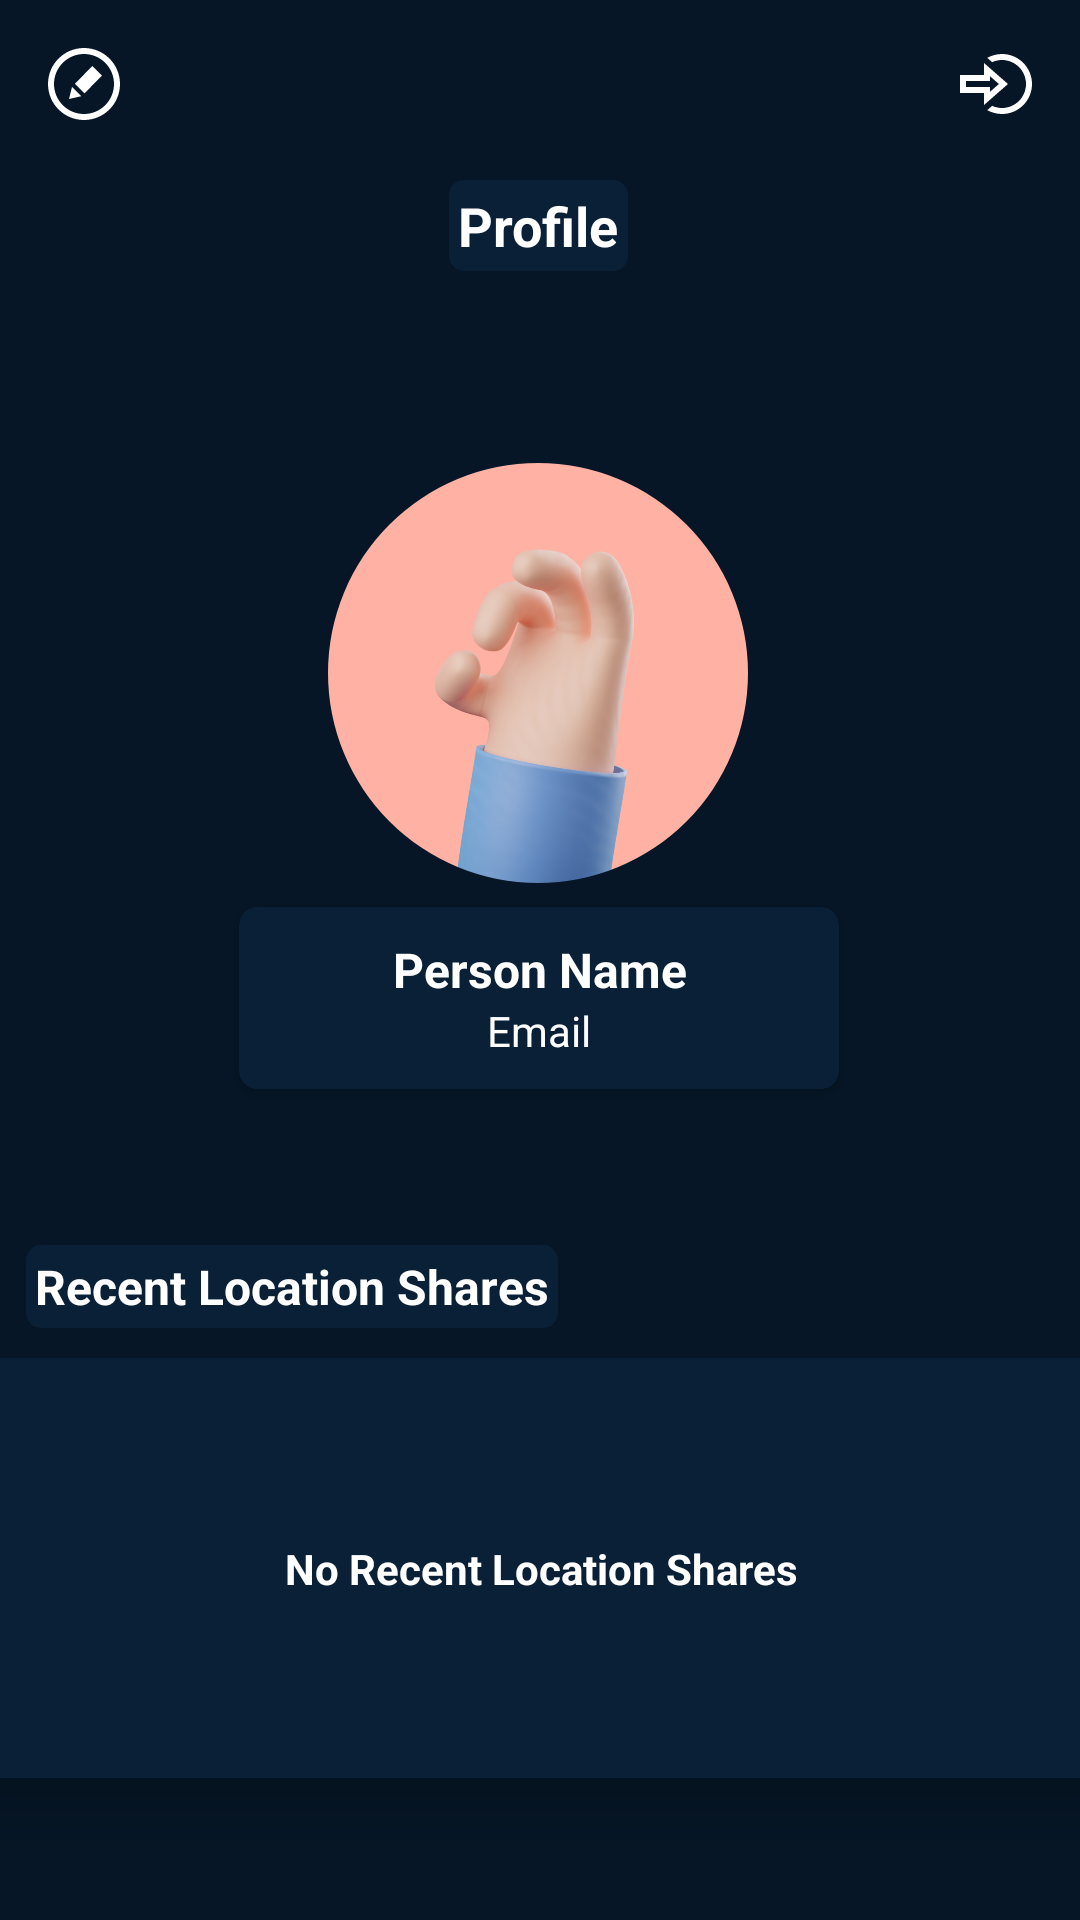

Named icons in this screenshot (1080×1920) and their bounding boxes, (x1, y1, x2, y2):
edit: (48, 48, 120, 120)
signout: (960, 54, 1032, 114)
